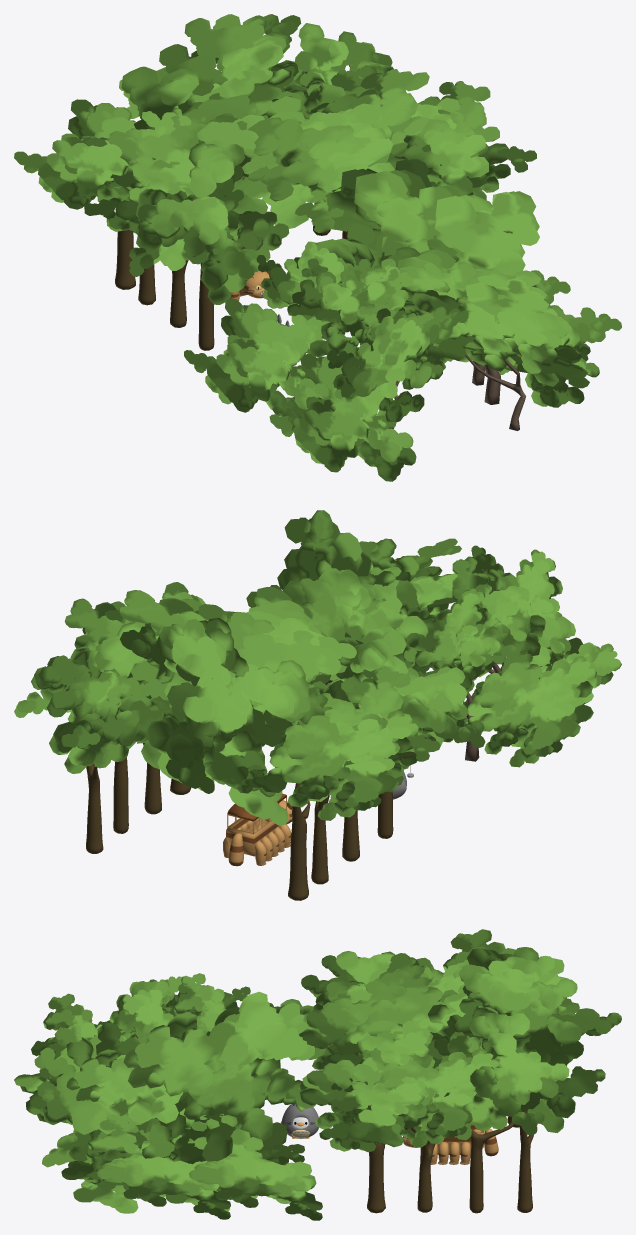
Rendered from etotoro.glb.
The picture shows the model from 3 angles, top to bottom: view 1: azimuth 30°, elevation 25°; view 2: azimuth 150°, elevation 25°; view 3: azimuth 270°, elevation 25°; orthographic projection. The views are drawn at different scales.
Parts seen in each view (by area): view 1: folliage.007, folliage.017, folliage.010, folliage.019, folliage.016, folliage.006, folliage.011, folliage.001, folliage.008, folliage.003, folliage.002, folliage.018 (+10 smaller); view 2: folliage.019, folliage.013, folliage.008, folliage.007, folliage.016, folliage.010, folliage.005, folliage.018, folliage.009, folliage.017, folliage.002, folliage.001 (+14 smaller); view 3: folliage.007, folliage.019, folliage.013, folliage.011, folliage.003, folliage.014, folliage.015, folliage.017, folliage.012, folliage.018, folliage.004, folliage.010 (+12 smaller).
Part boxes in pixels (x1,y1,x2,y2): folliage.007: (315,159,566,388); folliage.017: (236,69,441,232); folliage.010: (129,143,289,304); folliage.019: (119,14,329,143); folliage.016: (184,298,330,431); folliage.006: (269,354,416,481); folliage.011: (380,81,536,199); folliage.001: (327,306,468,422); folliage.008: (14,99,191,209); folliage.003: (411,268,577,386); folliage.002: (287,258,417,360); folliage.018: (152,75,405,214); folliage.019: (120,618,324,825); folliage.013: (14,622,179,773); folliage.008: (237,682,419,820); folliage.007: (246,510,428,684); folliage.016: (443,630,596,767); folliage.010: (312,630,485,785); folliage.005: (403,588,500,692); folliage.018: (162,604,356,735); folliage.009: (292,666,440,788); folliage.017: (119,587,363,674); folliage.002: (430,556,545,655); folliage.001: (471,545,575,666); folliage.007: (69,991,325,1165); folliage.019: (427,947,621,1066); folliage.013: (444,1008,605,1140); folliage.011: (284,1038,439,1152); folliage.003: (26,1022,183,1180); folliage.014: (61,1114,230,1219); folliage.015: (165,1115,322,1220); folliage.017: (299,968,433,1091); folliage.012: (339,1023,499,1147); folliage.018: (312,953,467,1071); folliage.004: (42,1049,194,1167); folliage.010: (269,951,393,1035).
Bounding box in the file's own units: 10.01 × 5.99 × 14.99.
